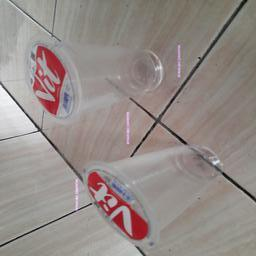plastic: (12, 35, 190, 122), (84, 146, 221, 250)
